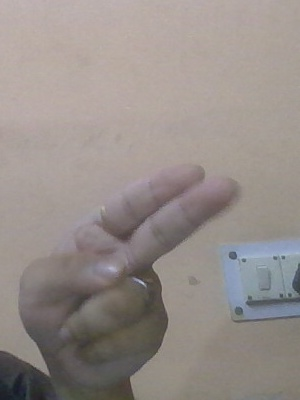H: (8, 147, 242, 381)
